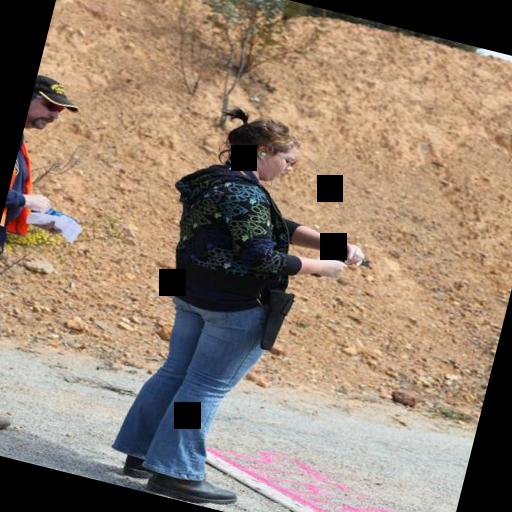Handgun: (314, 240, 378, 286)
